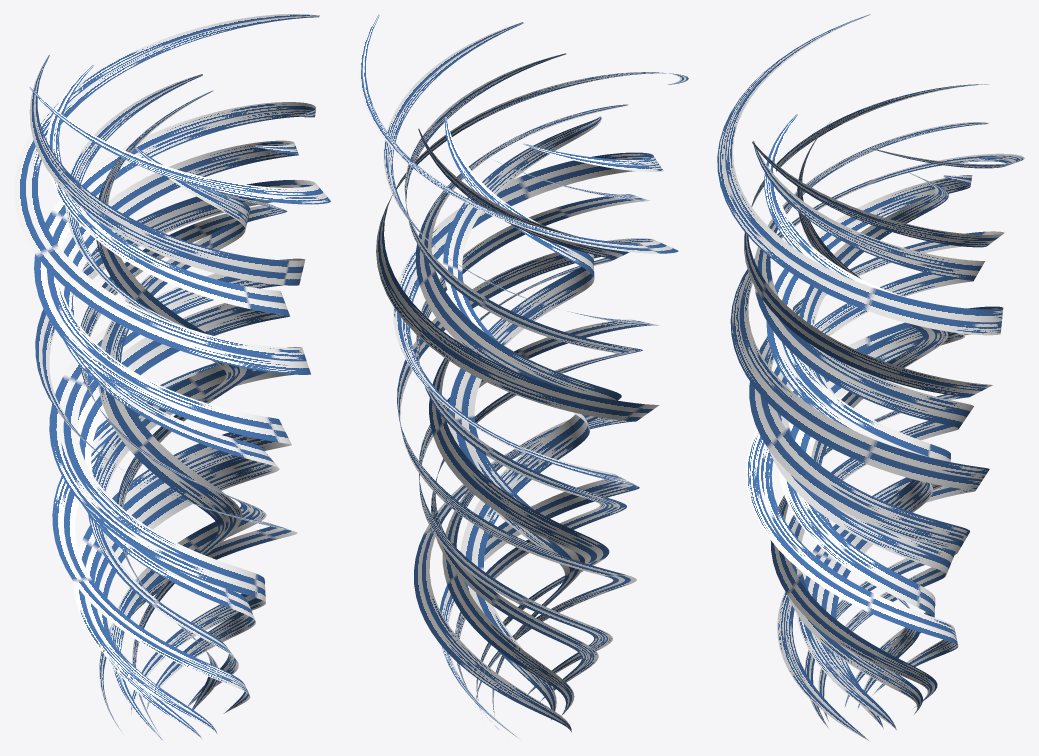
File: Rui_Web5.fbx
3 views of the same model, side by side, from view 1: azimuth 30°, elevation 25°; view 2: azimuth 150°, elevation 25°; view 3: azimuth 270°, elevation 25° (orthographic). The views are drawn at different scales.
Visible parts, largest first — view 1: SM_e_DLC_Plc_P1007_AtkCmbW03U1_Web001; view 2: SM_e_DLC_Plc_P1007_AtkCmbW03U1_Web001; view 3: SM_e_DLC_Plc_P1007_AtkCmbW03U1_Web001.
Boxes of the visible parts, x1,y1,x2,y2 form: SM_e_DLC_Plc_P1007_AtkCmbW03U1_Web001: (14, 14, 330, 740); SM_e_DLC_Plc_P1007_AtkCmbW03U1_Web001: (359, 14, 688, 740); SM_e_DLC_Plc_P1007_AtkCmbW03U1_Web001: (717, 14, 1024, 741).
Size of the model in its own units: 452 by 1001 by 436.
